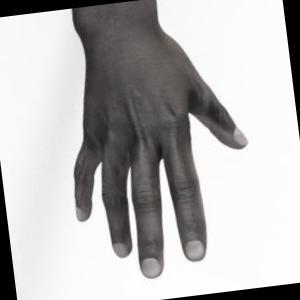paper: (72, 0, 247, 277)
